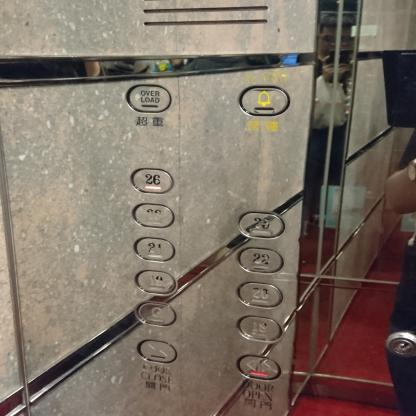18: (234, 314, 284, 344)
19: (133, 268, 178, 297)
20: (234, 280, 285, 310)
21: (131, 236, 176, 264)
22: (235, 244, 286, 276)
23: (130, 200, 176, 230)
25: (233, 209, 286, 242)
26: (129, 166, 175, 196)
G: (132, 300, 178, 328)
alarm: (237, 84, 291, 118)
close: (134, 337, 178, 366)
open: (234, 352, 282, 383)
text_overload: (124, 83, 172, 114)
